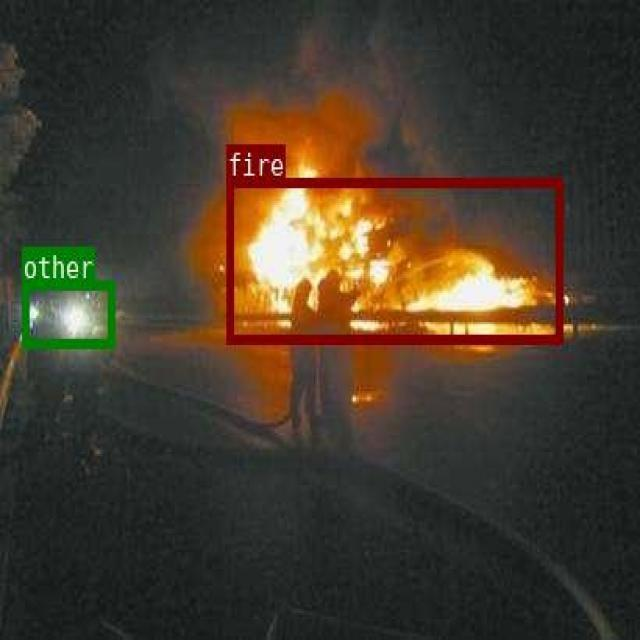fire: (226, 176, 562, 343)
